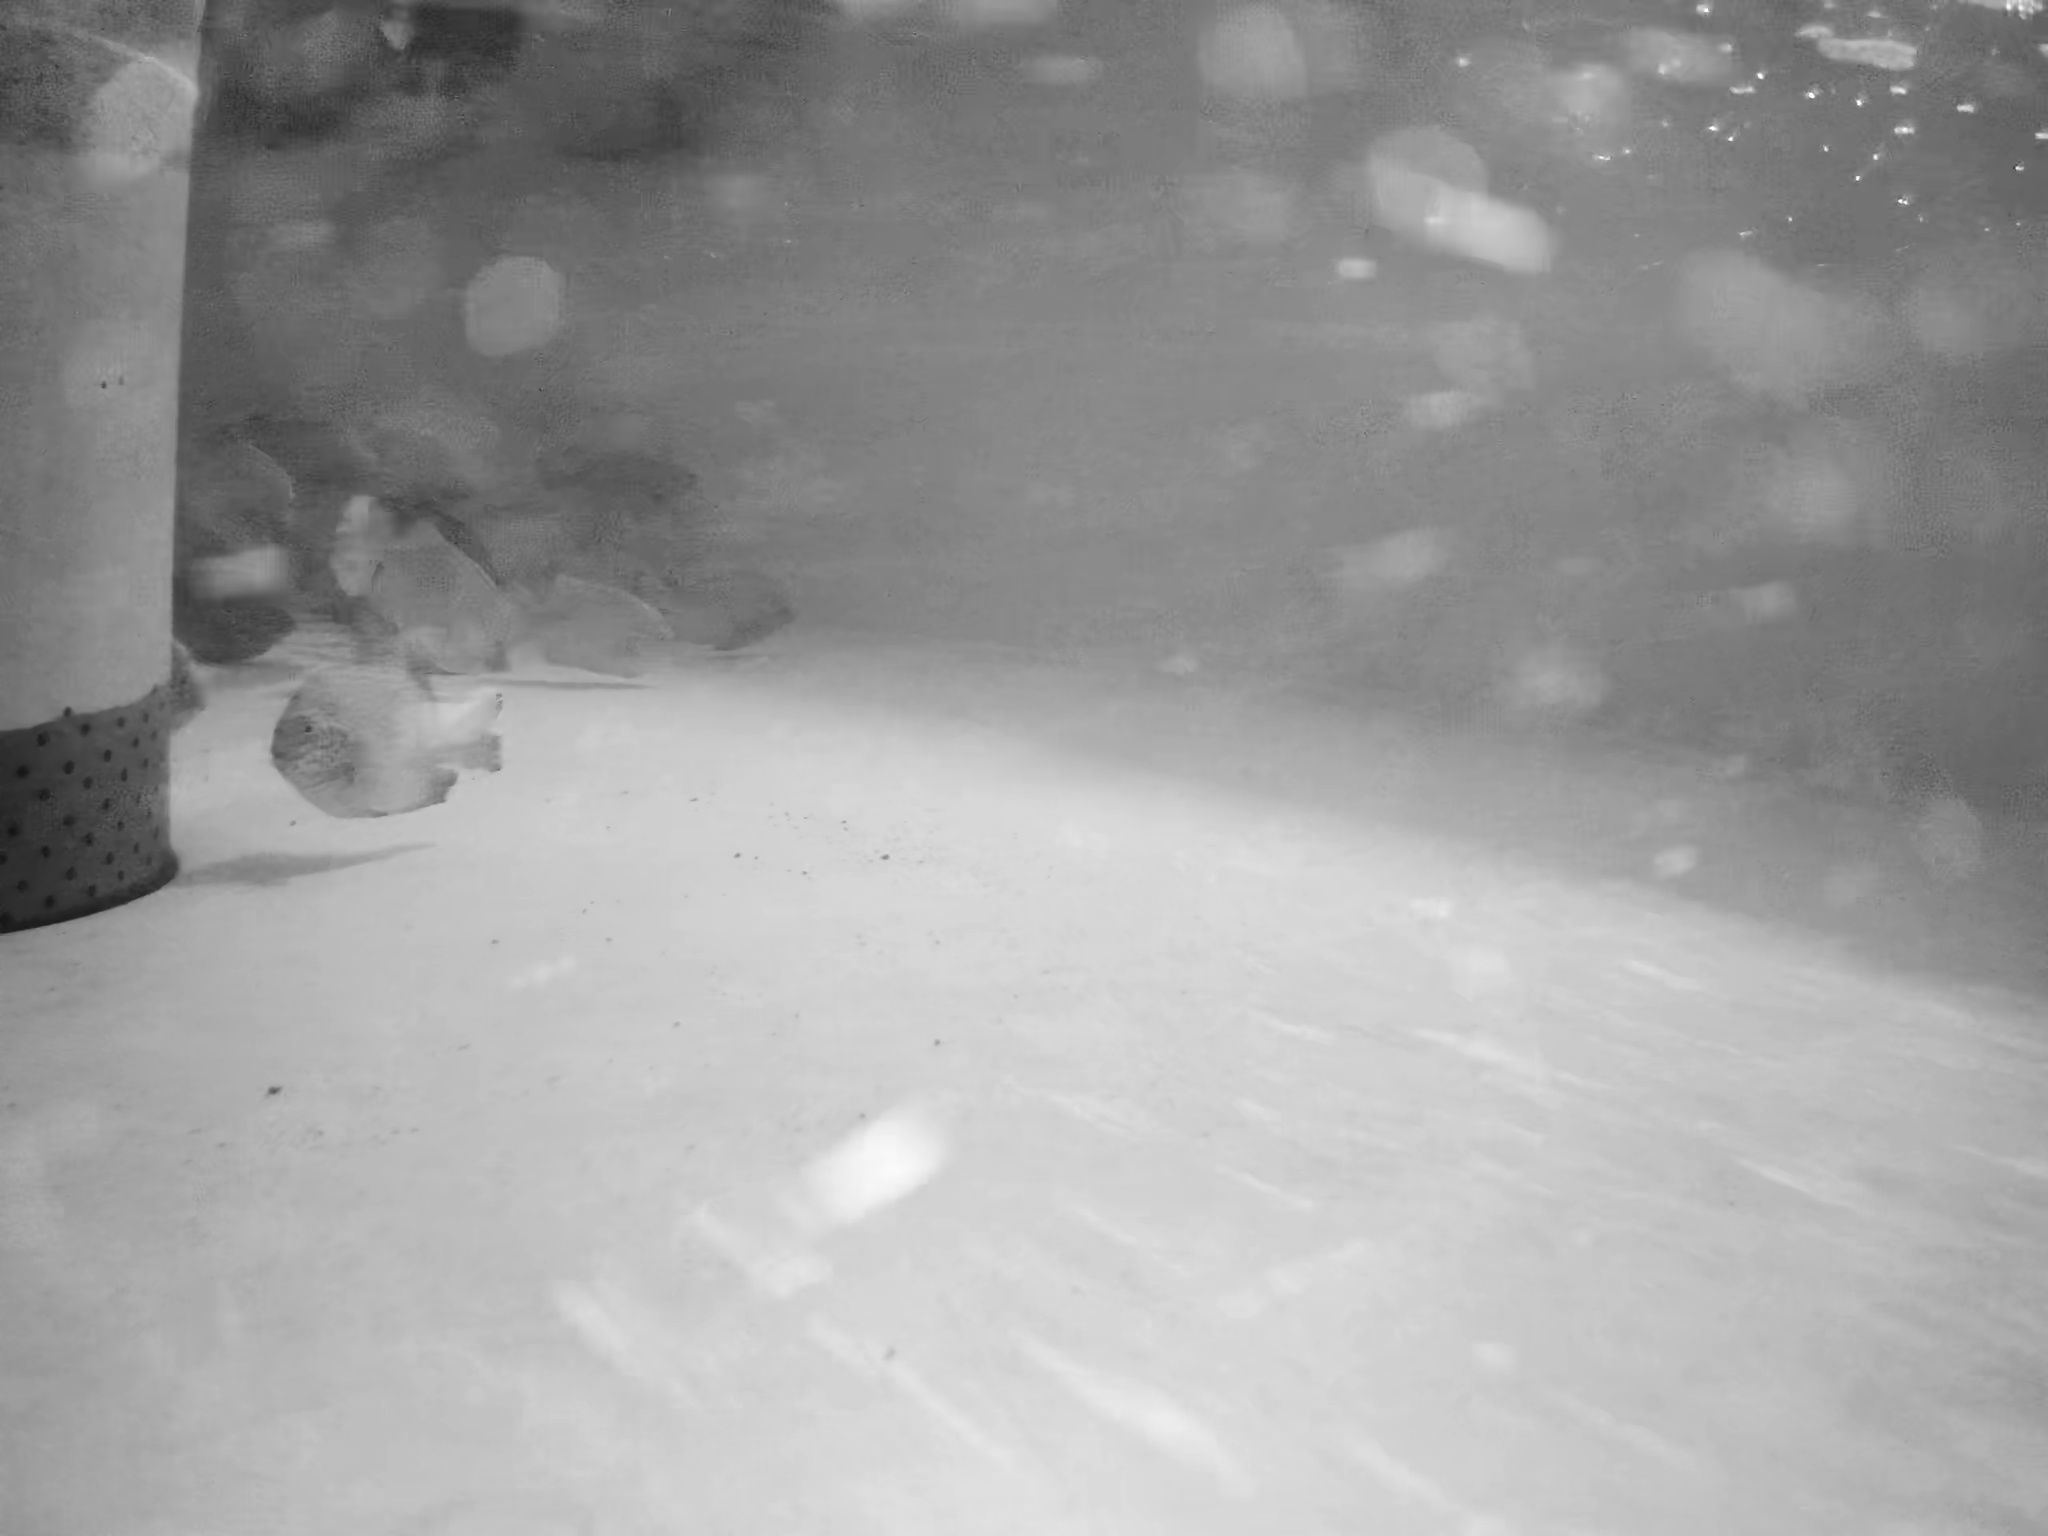fish: (256, 642, 556, 820), (340, 529, 548, 702), (510, 571, 710, 721), (148, 431, 337, 542), (564, 463, 751, 573), (656, 544, 835, 658), (231, 413, 368, 542), (340, 421, 490, 536)
